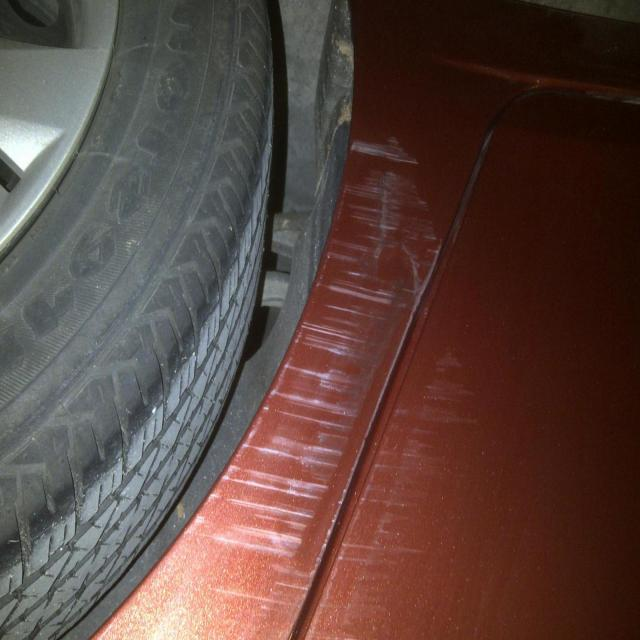scratch: (158, 102, 462, 640)
